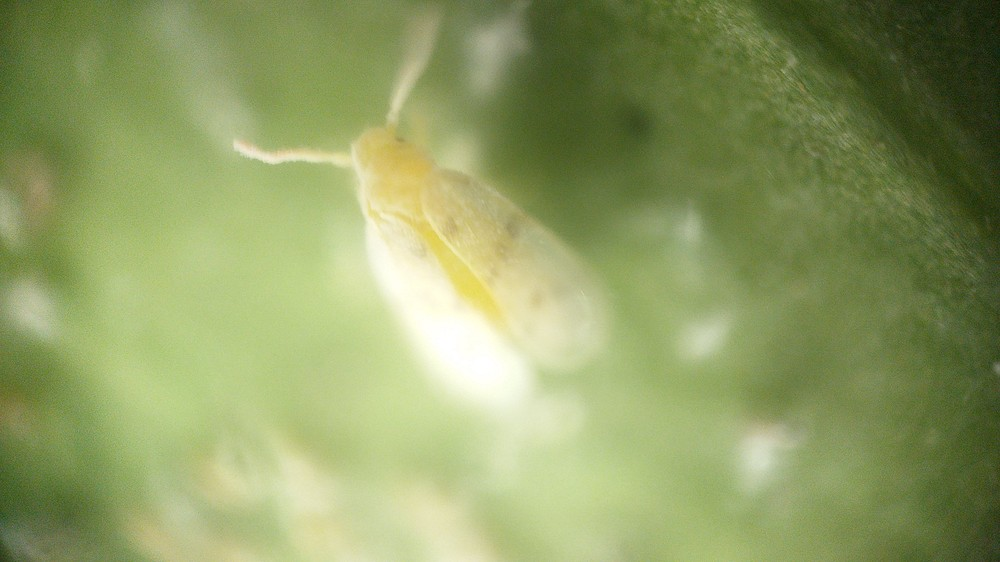Mosca Blanca: (212, 19, 652, 435)
